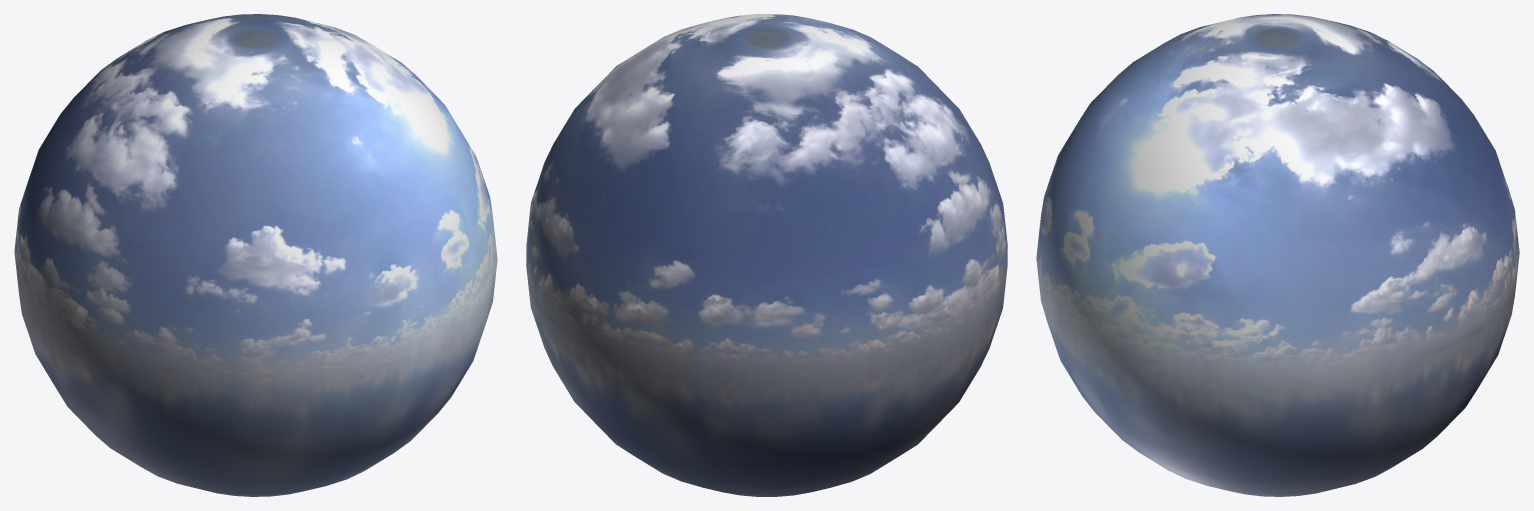
File: skydome_only-transformed.glb
The picture shows the model from 3 angles, left to right: view 1: azimuth 30°, elevation 25°; view 2: azimuth 150°, elevation 25°; view 3: azimuth 270°, elevation 25°; orthographic projection.
Visible parts, largest first — view 1: Sphere skydome.001; view 2: Sphere skydome.001; view 3: Sphere skydome.001.
Boxes of the visible parts, x1,y1,x2,y2 form: Sphere skydome.001: (14, 14, 497, 496); Sphere skydome.001: (526, 14, 1007, 496); Sphere skydome.001: (1036, 14, 1519, 496).
Size of the model in its own units: 126 by 126 by 126.
1 material, 1 textured.
